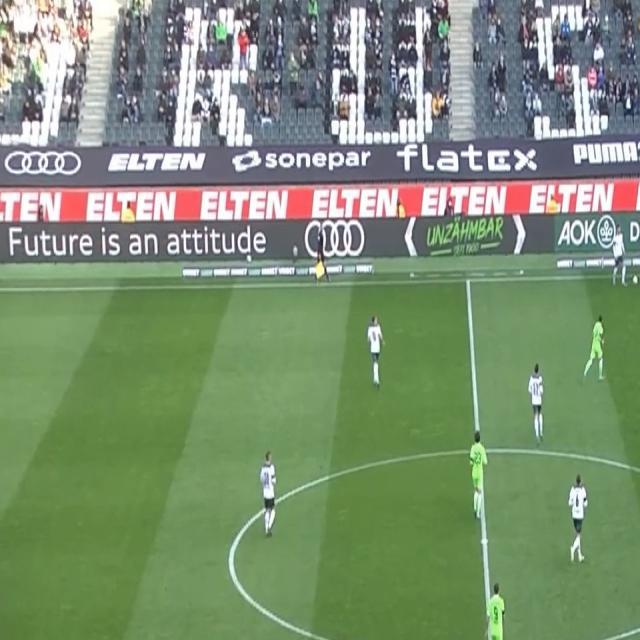ball: (631, 273, 639, 287)
